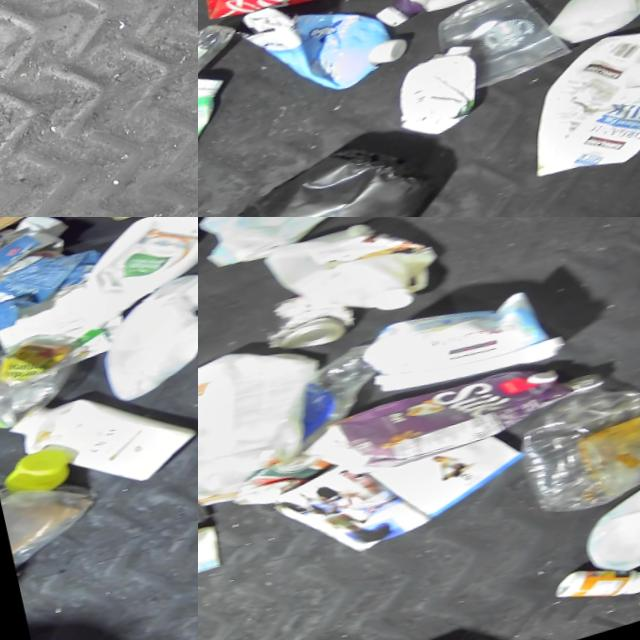can: (257, 280, 361, 363)
milk_jug: (198, 327, 345, 529), (258, 217, 451, 348), (508, 15, 640, 197), (60, 217, 198, 337), (92, 260, 198, 406), (198, 217, 391, 279), (566, 434, 640, 593), (539, 0, 640, 56)
non_white_jug: (296, 352, 581, 497), (234, 0, 411, 118), (359, 0, 573, 35)
plastic_bottle: (505, 361, 640, 533), (240, 342, 395, 477), (198, 16, 252, 144)
